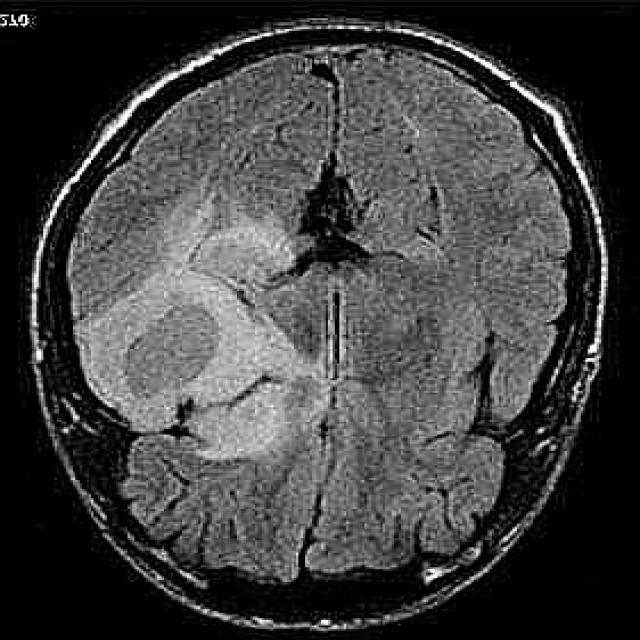Tumor-Cell: (117, 276, 320, 442)
